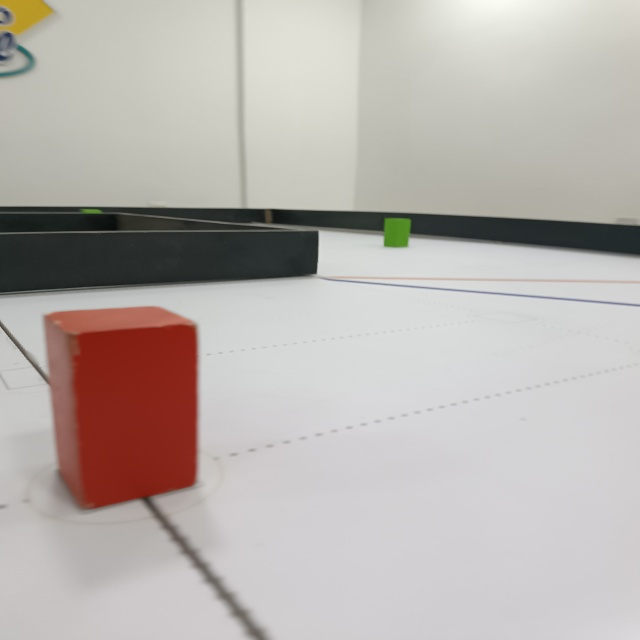blue line: (321, 275, 640, 308)
green rectangular prism: (382, 216, 413, 250)
orange line: (317, 274, 640, 285)
red rectangular prism: (44, 309, 203, 514)
